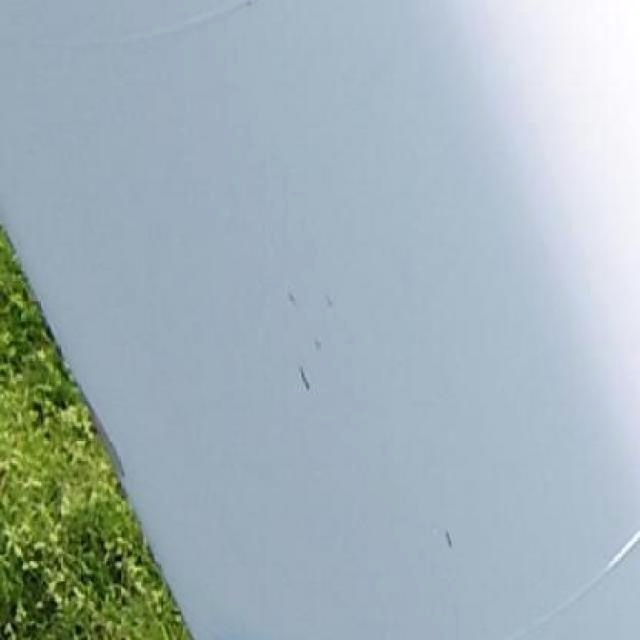Coating_defects: (446, 532, 452, 548), (288, 293, 295, 304)
Crack: (298, 365, 310, 393)
